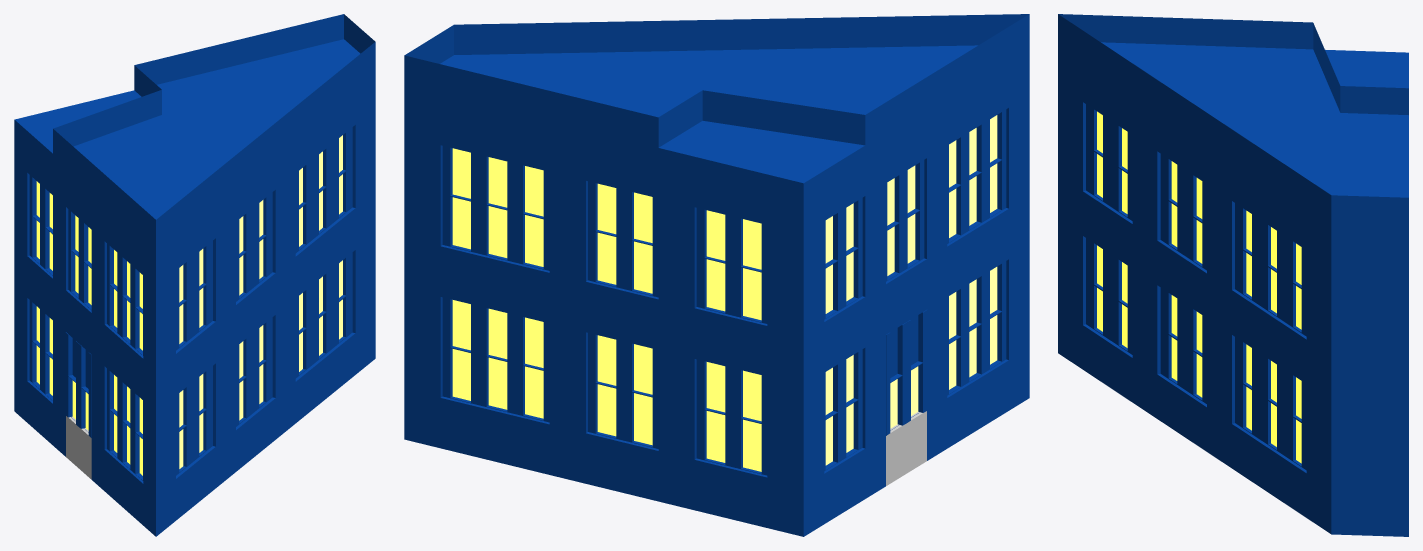
The model's file is the_slice.fbx.
3 renders of one model, left to right at view 1: azimuth 30°, elevation 25°; view 2: azimuth 150°, elevation 25°; view 3: azimuth 270°, elevation 25°, orthographic. The views are drawn at different scales.
Visible parts, largest first — view 1: Plane; view 2: Plane; view 3: Plane.
Boxes of the visible parts, x1=… form: Plane: x1=14, y1=14, x2=375, y2=536; Plane: x1=404, y1=14, x2=1029, y2=536; Plane: x1=1058, y1=14, x2=1408, y2=536.
Bounding box in the file's own units: 1010 × 869 × 815.
